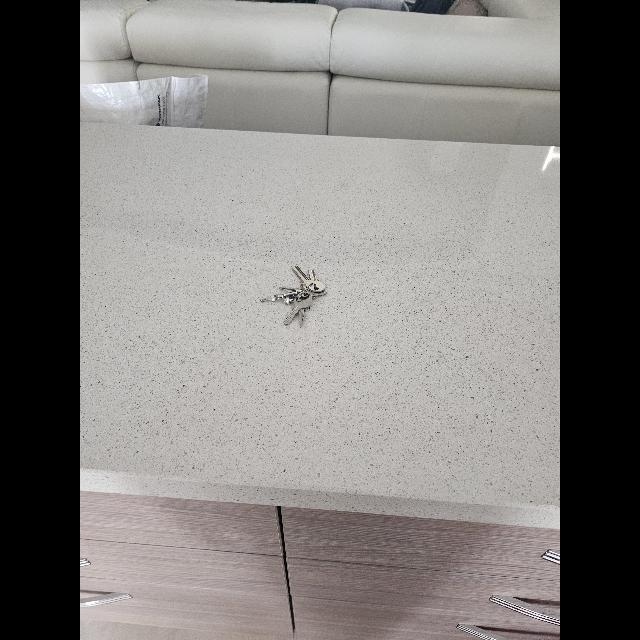Keys: (261, 266, 329, 328)
